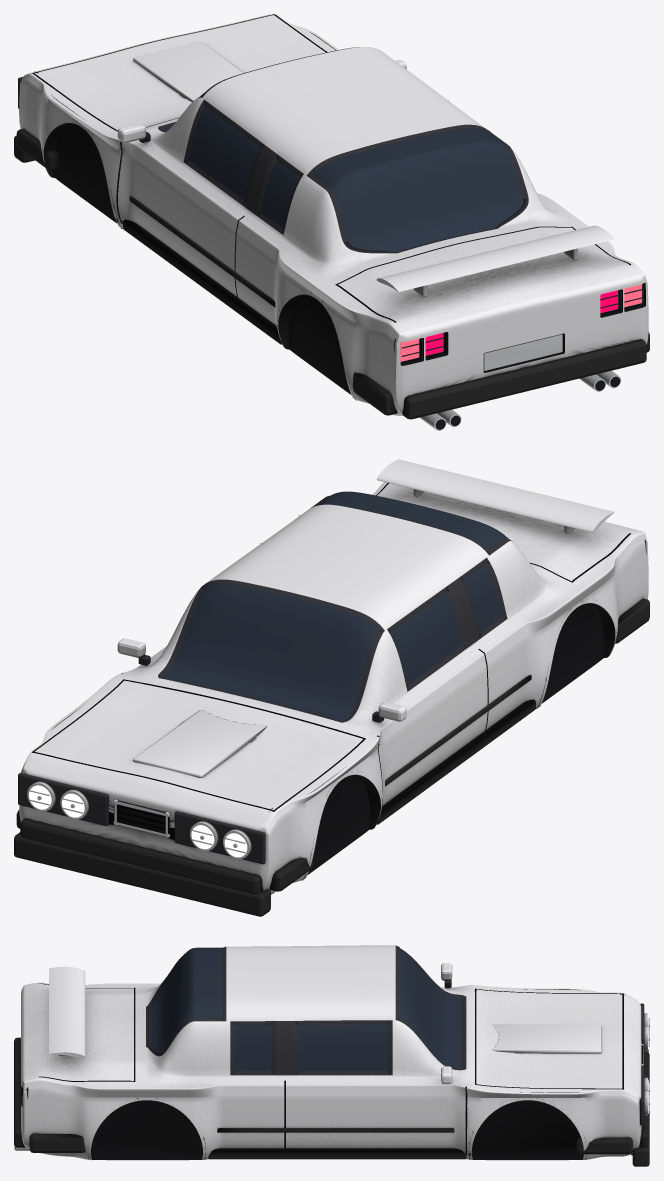
Rendered from hatch.glb.
3 renders of one model, top to bottom at view 1: azimuth 30°, elevation 25°; view 2: azimuth 150°, elevation 25°; view 3: azimuth 270°, elevation 25°, orthographic. The views are drawn at different scales.
Parts seen in each view (by area): view 1: body, glass_panes, part.035, wing, part.030, part.079, part.054, part.036, part.032; view 2: body, glass_panes, wing, part.034, part.031, part.030, part.079, part.008, part.019, part.036, part.032; view 3: body, glass_panes, wing, part.030, part.080, part.037, part.033, part.035, part.034, part.031.
Boxes of the visible parts, x1,y1,x2,y2 form: body: (19,14,648,415); glass_panes: (163,92,523,252); part.035: (402,339,646,419); wing: (376,225,614,291); part.030: (133,41,243,101); part.079: (123,219,282,344); part.054: (483,334,562,370); part.036: (353,373,397,415); part.032: (16,128,58,170); body: (19,482,648,894); glass_panes: (163,491,507,720); wing: (376,459,614,532); part.034: (14,832,270,916); part.031: (20,818,262,894); part.030: (133,710,266,777); part.079: (377,699,535,824); part.008: (174,811,265,864); part.019: (18,773,108,825); part.036: (615,598,649,643); part.032: (269,856,313,891); body: (21,945,641,1160); glass_panes: (149,947,461,1070); wing: (49,966,85,1057); part.030: (492,1024,601,1053); part.080: (208,1147,466,1159); part.037: (29,1133,85,1152); part.033: (576,1136,632,1154); part.035: (14,1037,25,1147); part.034: (632,1053,649,1166); part.031: (639,1049,648,1147).
Bounding box in the file's own units: 1.89 × 1.15 × 4.5.
